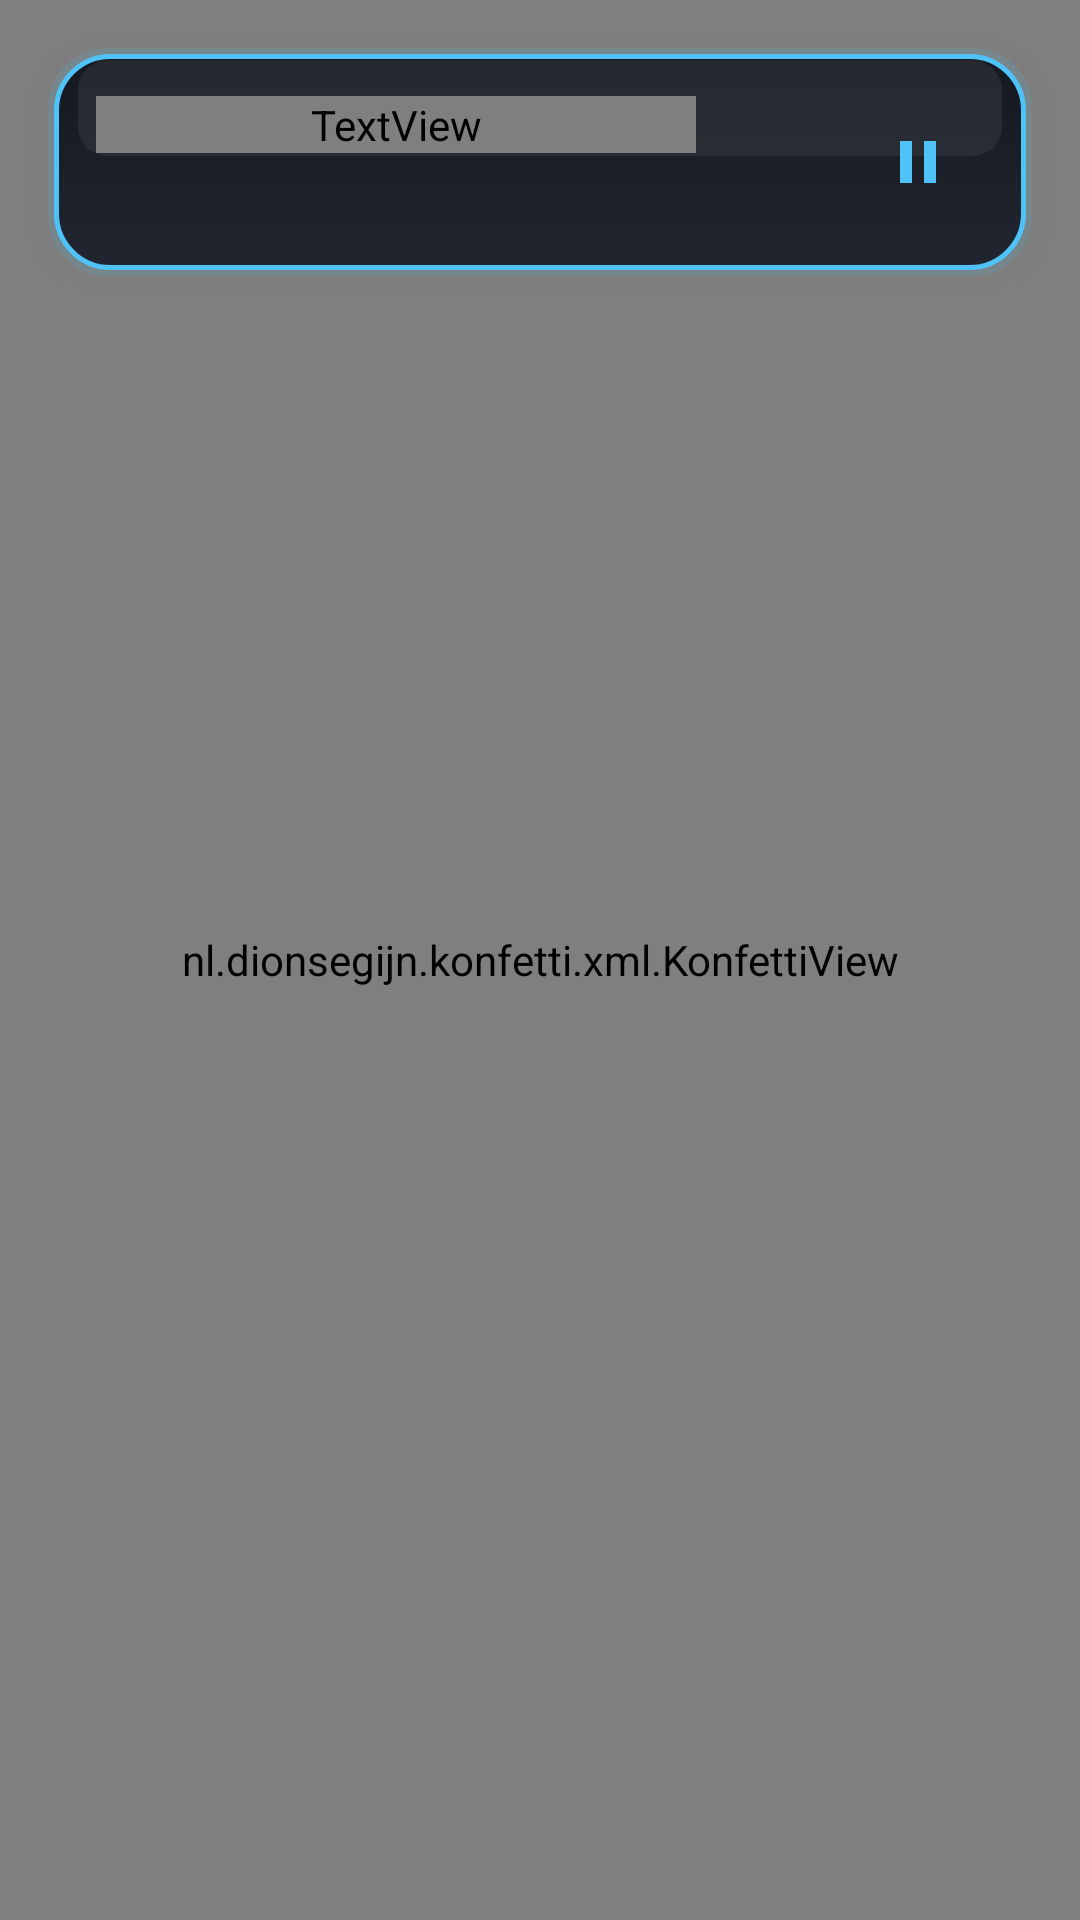

Named icons in this screenshot (1080x1920) and their bounding boxes, (x1, y1, x2, y2):
pause: (900, 141, 936, 183)
